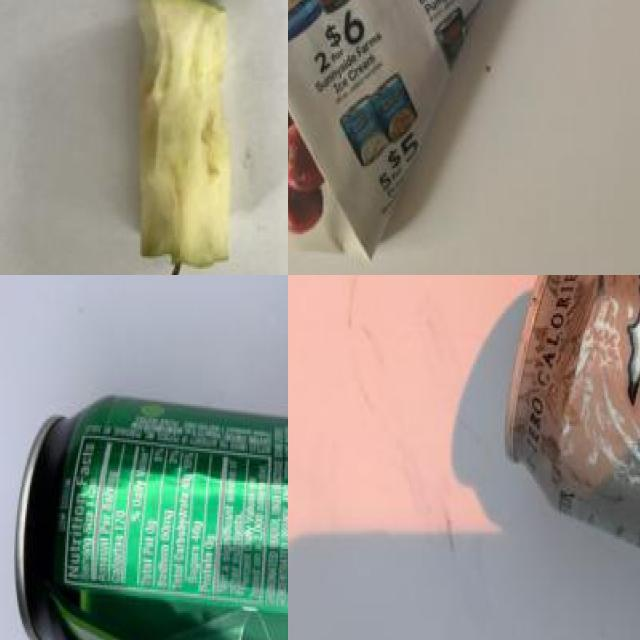compost: (102, 0, 268, 275)
paper: (288, 0, 629, 235)
plastic: (11, 397, 288, 640), (489, 275, 640, 640)
